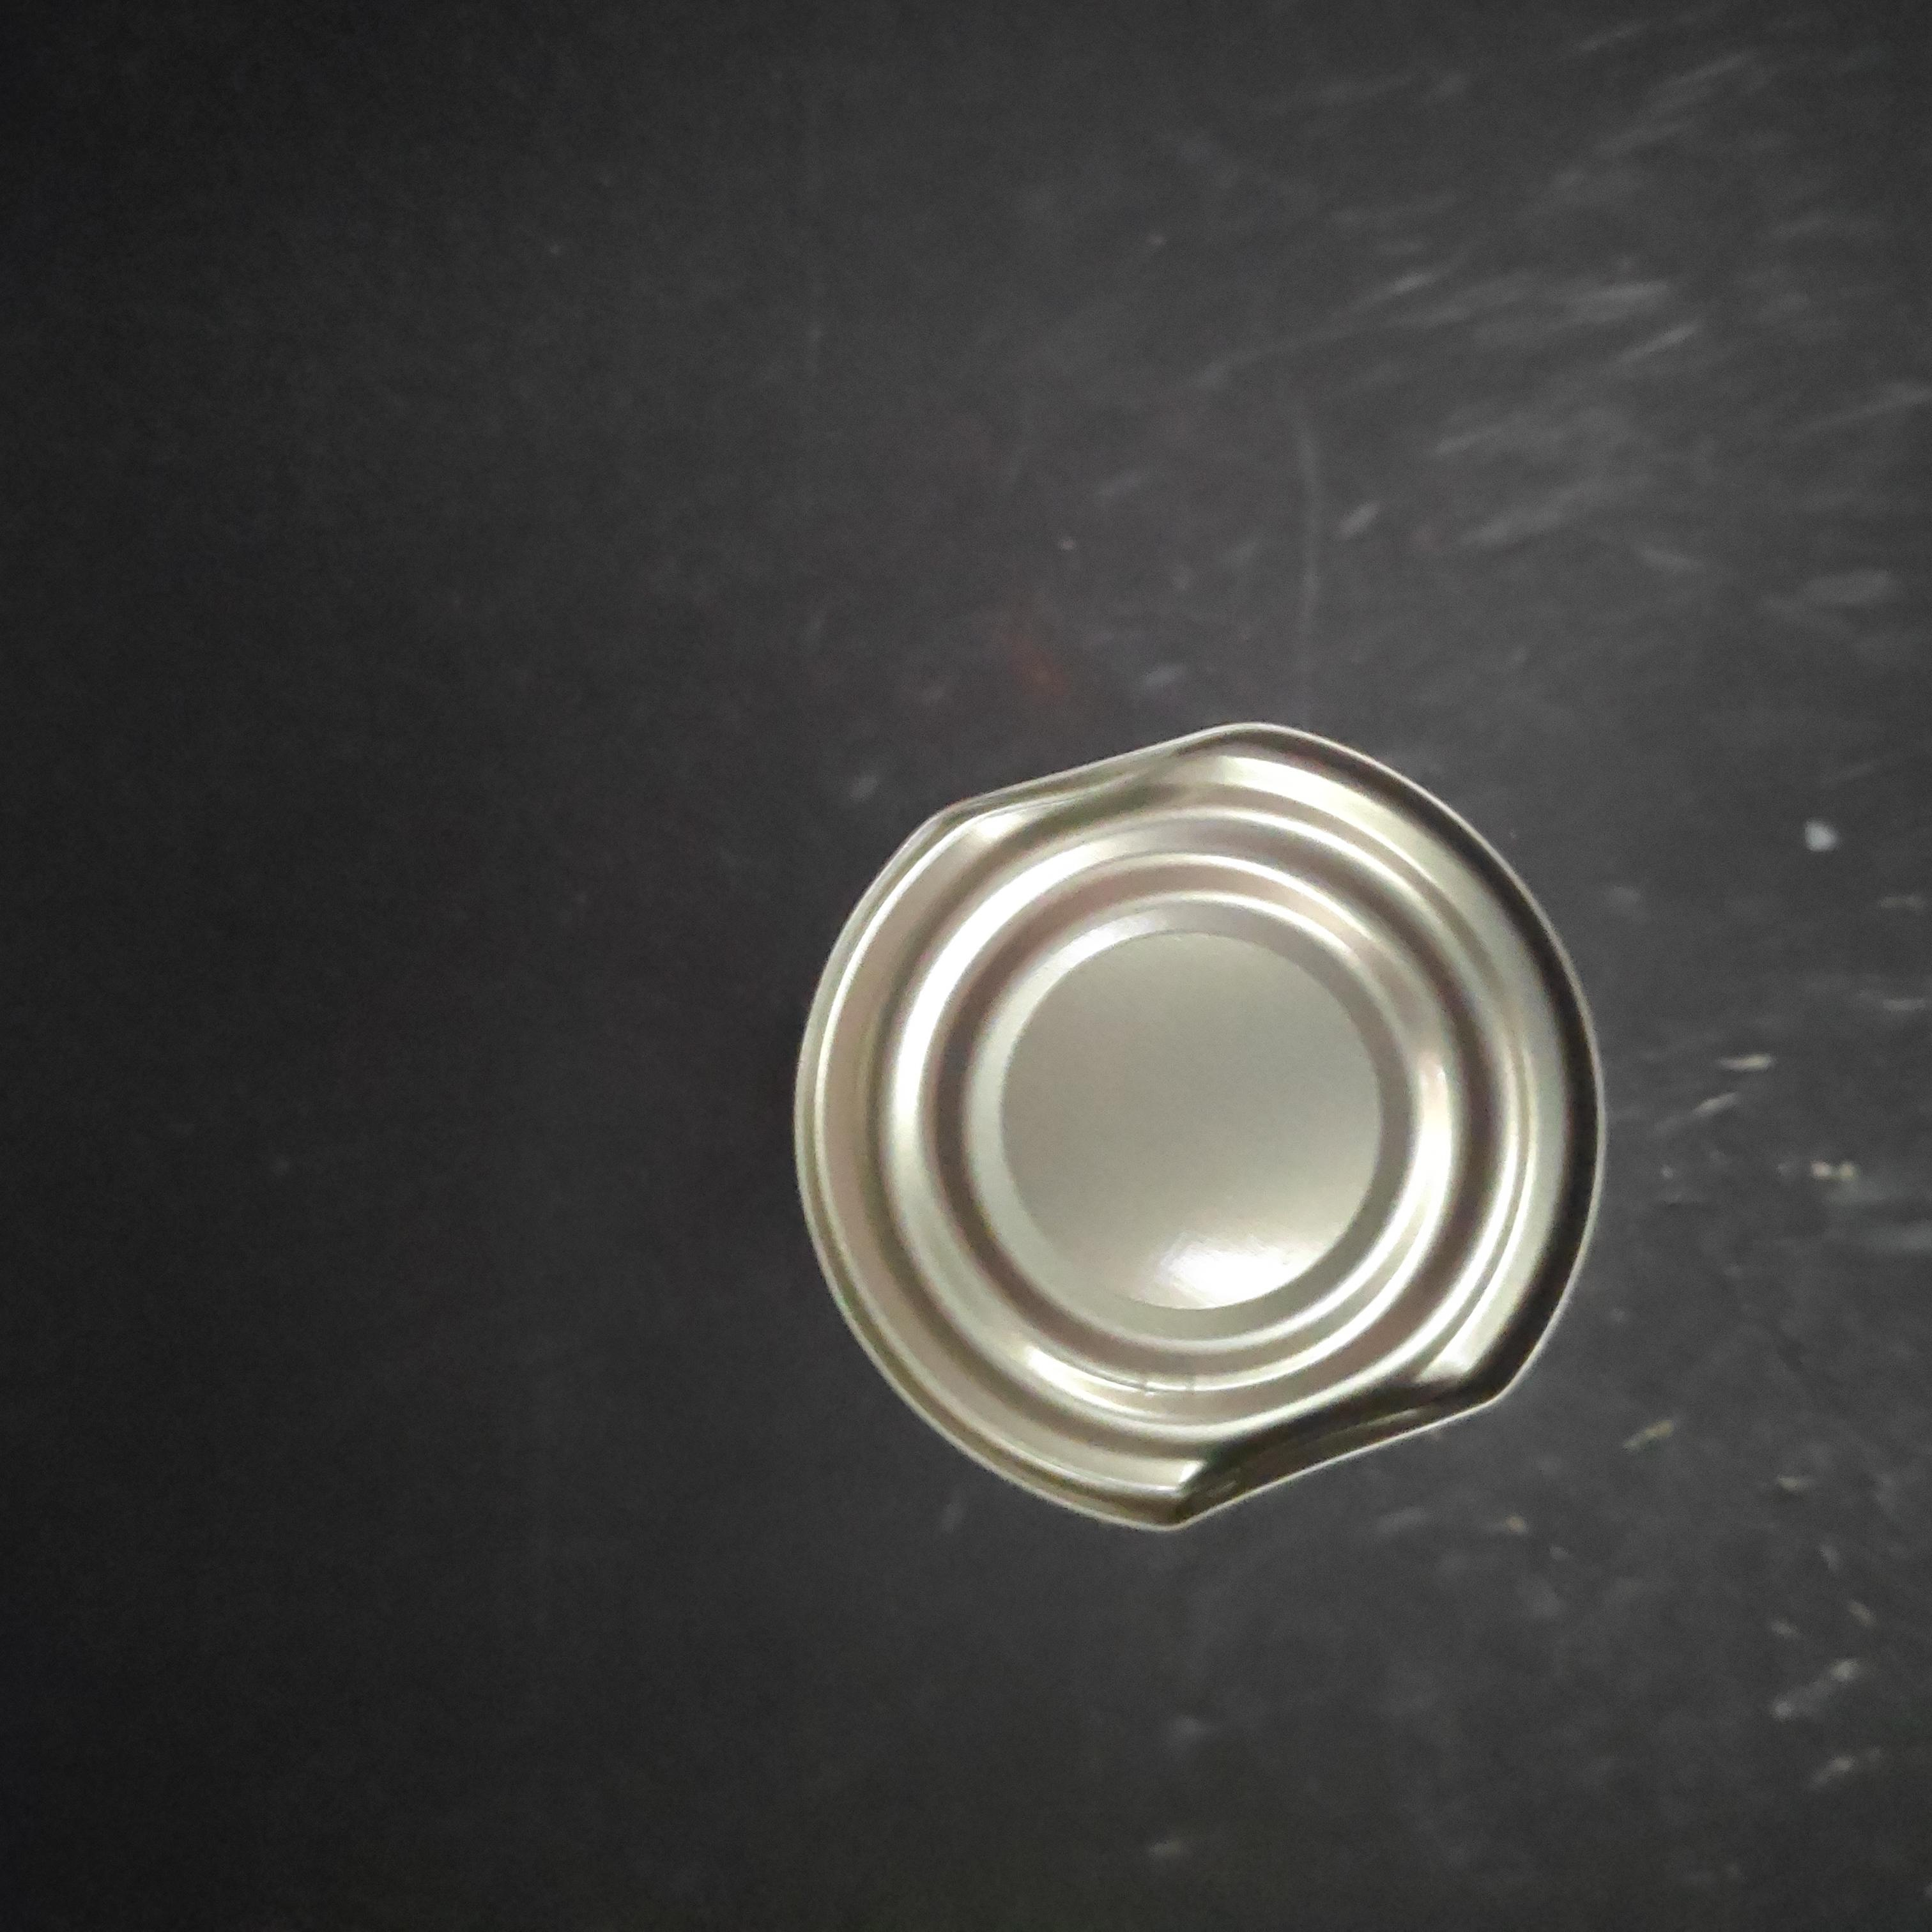Minor Defect: (771, 701, 1631, 1562)
